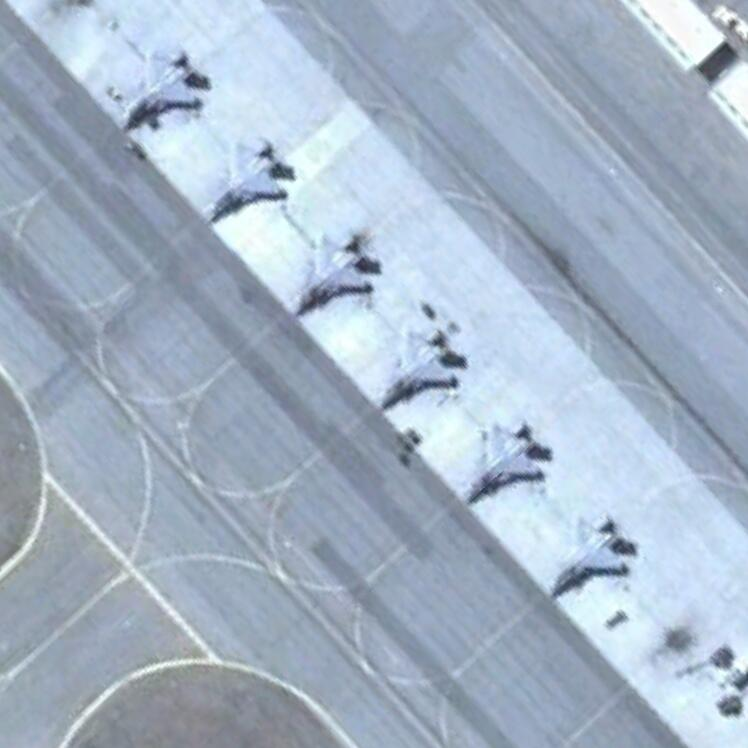A15: (110, 48, 203, 135), (458, 417, 543, 507), (291, 226, 373, 319), (204, 135, 287, 226), (377, 320, 459, 412), (546, 510, 628, 601)
